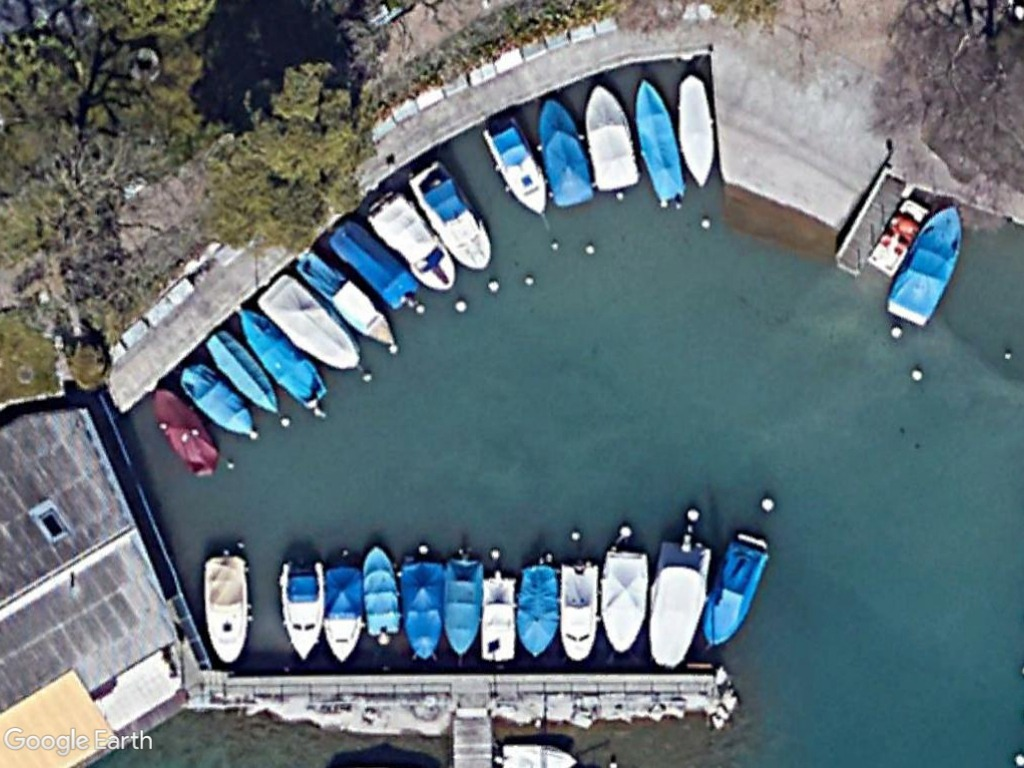boat: (256, 271, 363, 377), (364, 185, 464, 297), (294, 246, 399, 352), (883, 201, 970, 325), (233, 304, 331, 410), (411, 157, 496, 276), (645, 538, 714, 671), (327, 216, 422, 310), (697, 534, 773, 650), (202, 326, 285, 420), (479, 117, 551, 222), (532, 90, 596, 207), (146, 382, 223, 478), (630, 75, 686, 205), (194, 550, 254, 667), (581, 80, 640, 194), (599, 544, 654, 659), (177, 361, 257, 437), (669, 70, 719, 189), (394, 553, 446, 667), (552, 557, 604, 662), (321, 561, 367, 668), (278, 556, 323, 663), (442, 549, 483, 666), (361, 541, 404, 641), (516, 559, 559, 656)
